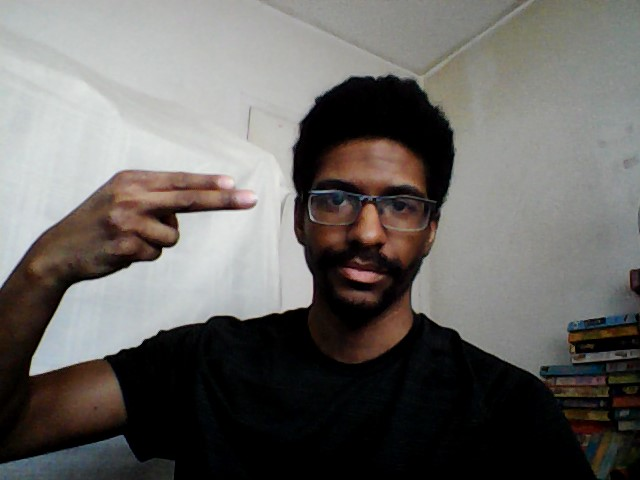h: (42, 164, 262, 284)
